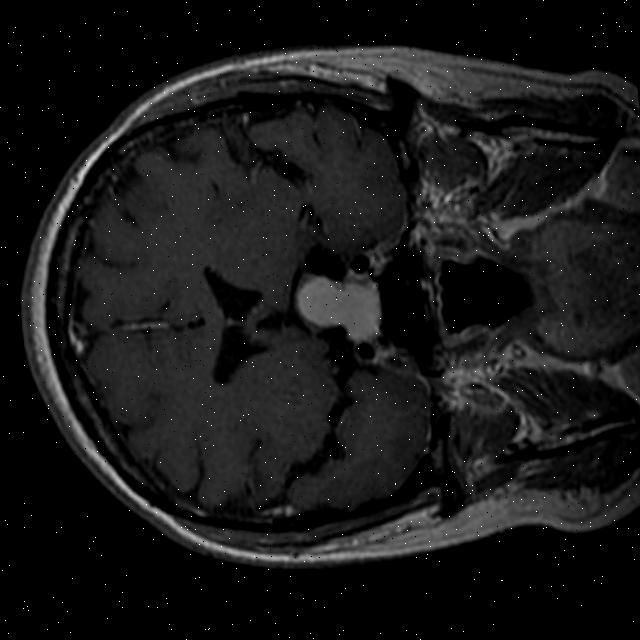Pituitary: (290, 267, 386, 348)
